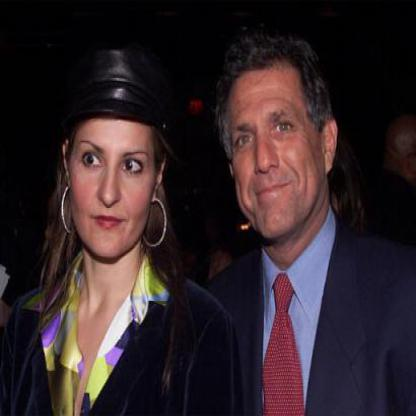face: (222, 44, 326, 243), (70, 61, 159, 261)
